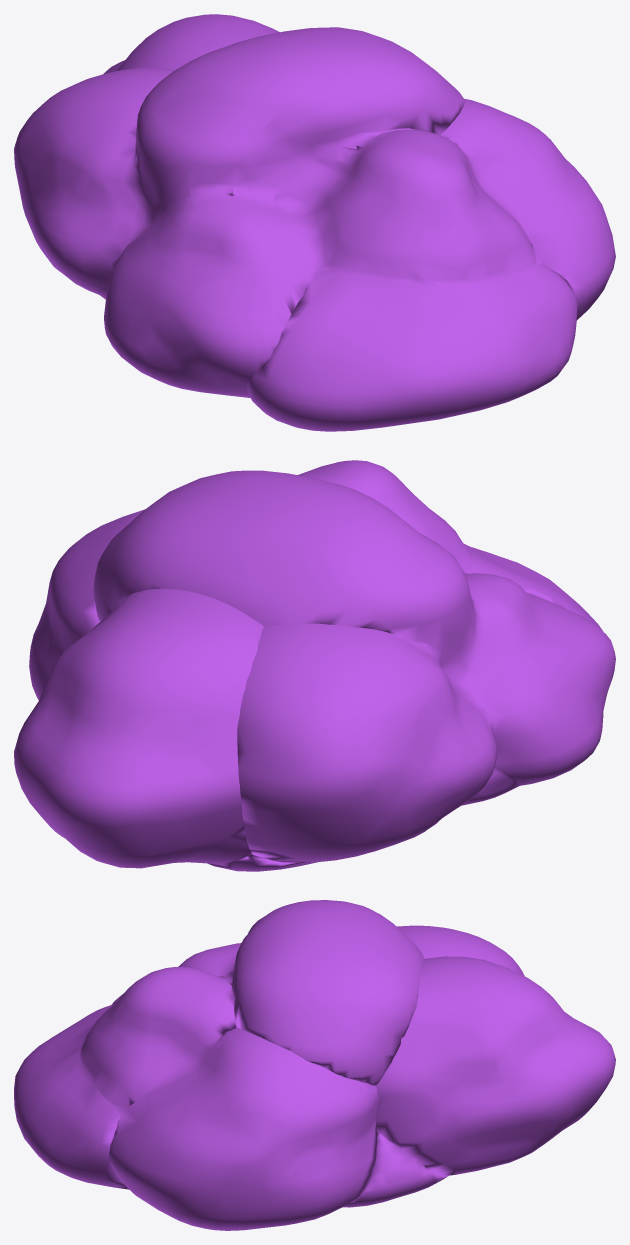
Rendered from Cloud .fbx.
3 renders of one model, top to bottom at view 1: azimuth 30°, elevation 25°; view 2: azimuth 150°, elevation 25°; view 3: azimuth 270°, elevation 25°, orthographic. The views are drawn at different scales.
Parts seen in each view (by area): view 1: Sphere; view 2: Sphere; view 3: Sphere.
Boxes of the visible parts, bbox=[...] form: Sphere: bbox=[14, 14, 615, 431]; Sphere: bbox=[14, 460, 615, 871]; Sphere: bbox=[14, 900, 615, 1230].
Bounding box in the file's own units: 483 × 277 × 634.
